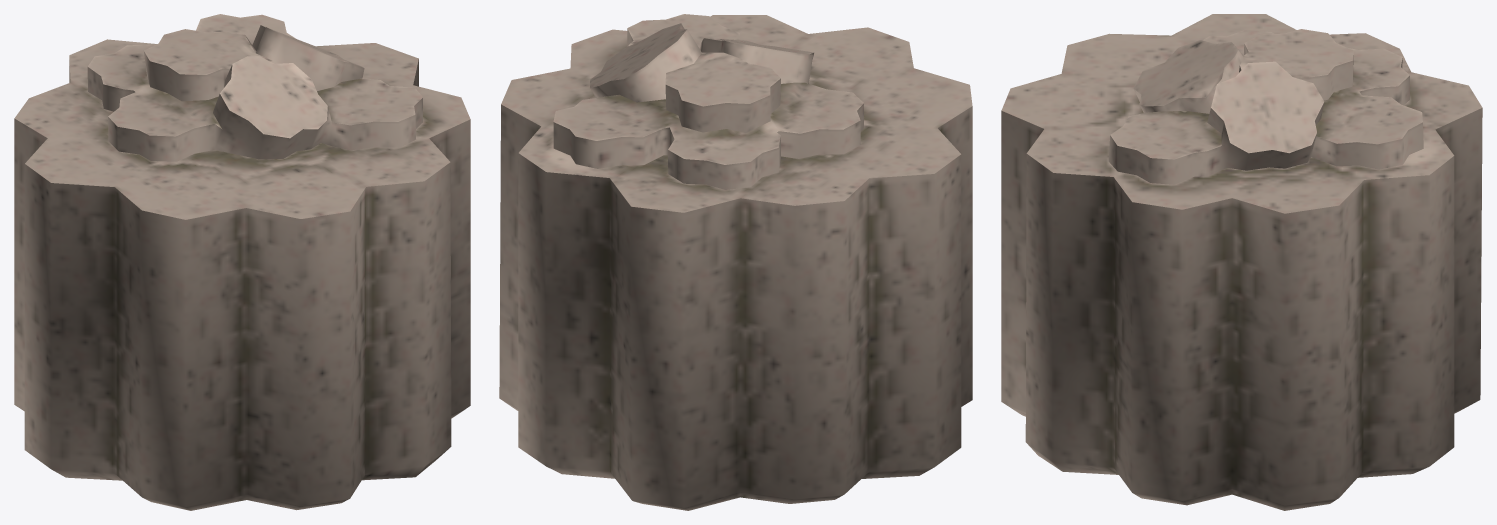
Rendered from M_Biscuit_03.FBX.
3 views of the same model, side by side, from view 1: azimuth 30°, elevation 25°; view 2: azimuth 150°, elevation 25°; view 3: azimuth 270°, elevation 25° (orthographic). The views are drawn at different scales.
Visible parts, largest first — view 1: M_Biscuit_03; view 2: M_Biscuit_03; view 3: M_Biscuit_03.
Part boxes in pixels (bbox=[...]): M_Biscuit_03: bbox=[14, 14, 470, 510]; M_Biscuit_03: bbox=[499, 14, 972, 510]; M_Biscuit_03: bbox=[1001, 14, 1482, 510].
Bounding box in the file's own units: 10.75 × 10.94 × 9.5.
